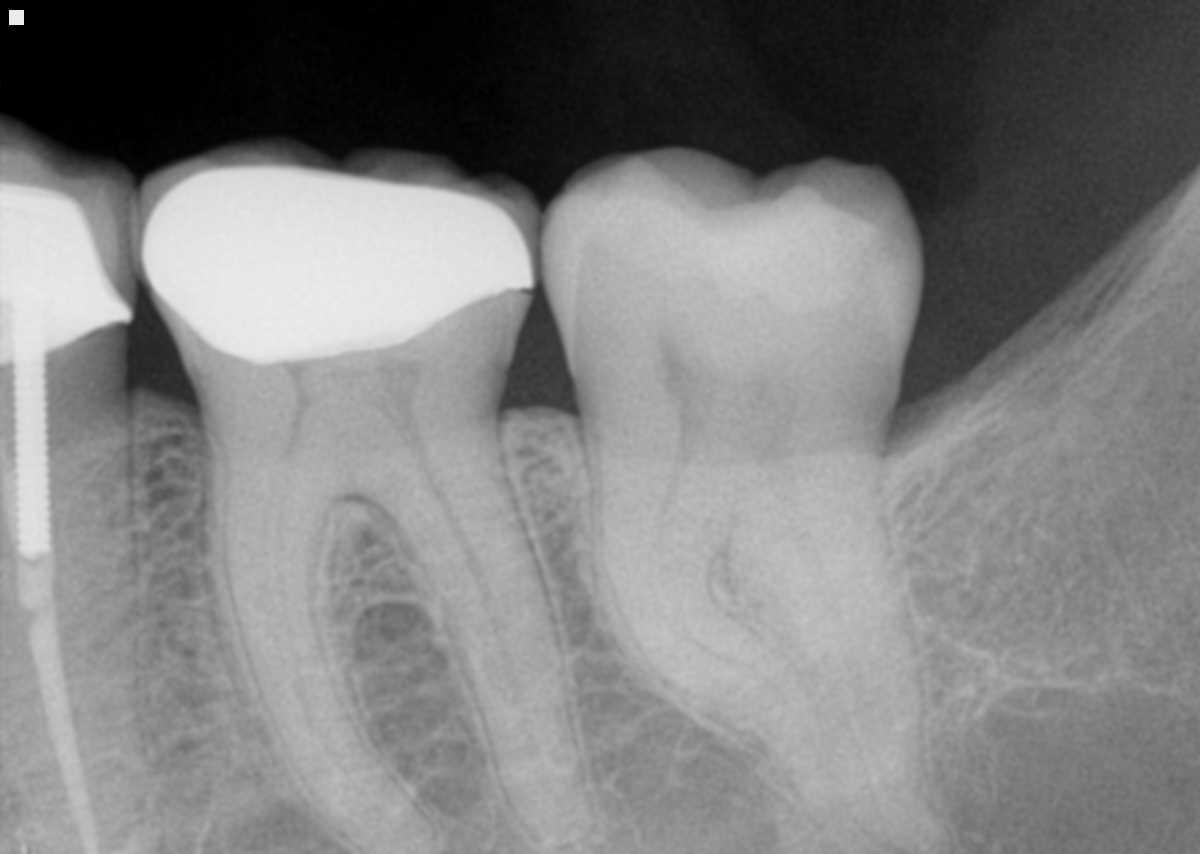Distal Canal: (416, 458, 568, 816), (769, 474, 876, 740)
Distal Root: (375, 446, 595, 846), (728, 459, 942, 854)
Main Root: (207, 457, 439, 854), (0, 390, 155, 854)
Mesial Canal: (646, 445, 874, 830), (273, 481, 394, 823)
Mesial Root: (585, 426, 884, 854)
Root Canal Filling: (18, 556, 100, 853)
